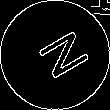N_SW: (23, 25, 87, 85)
